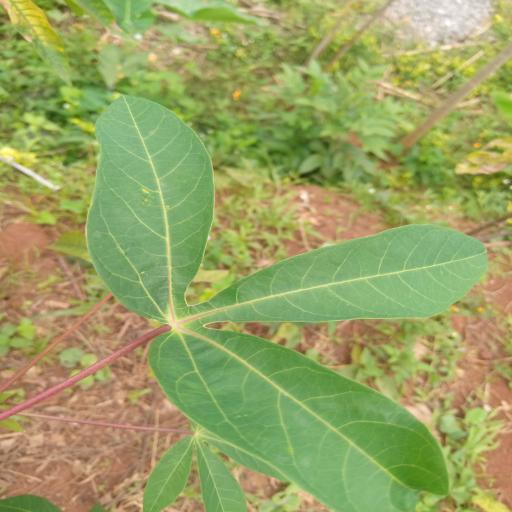Cassava_Healthy: (82, 89, 512, 512)
